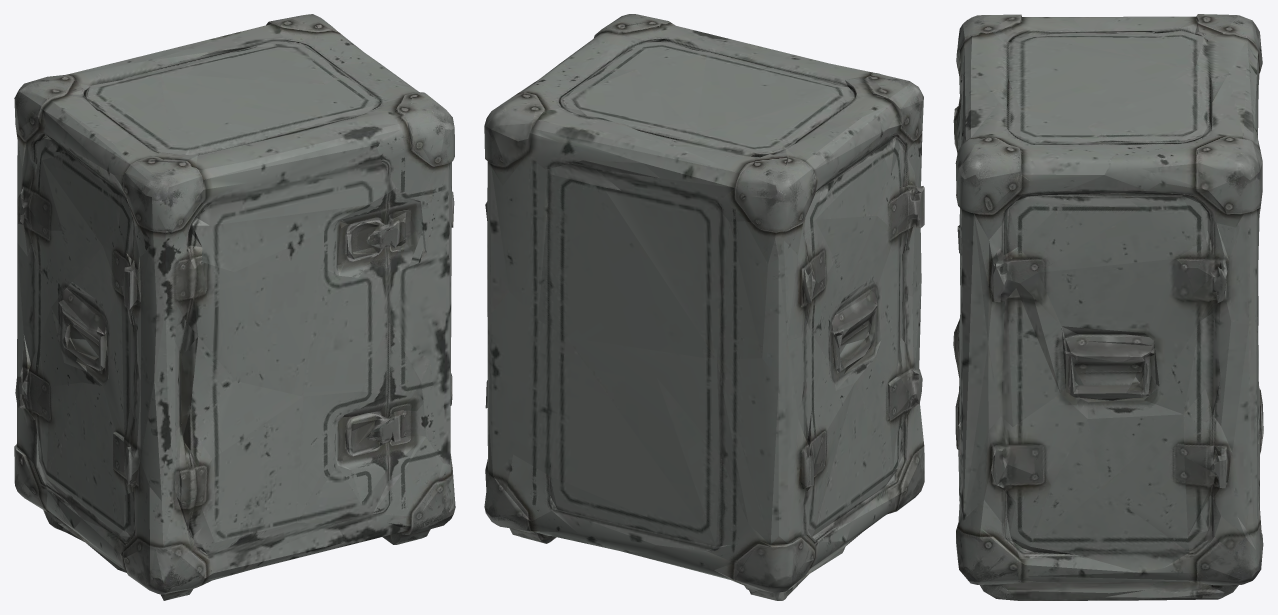
The model's file is locker.glb.
The picture shows the model from 3 angles, left to right: view 1: azimuth 30°, elevation 25°; view 2: azimuth 150°, elevation 25°; view 3: azimuth 270°, elevation 25°; orthographic projection. The views are drawn at different scales.
Visible parts, largest first — view 1: output_unwrapped; view 2: output_unwrapped; view 3: output_unwrapped.
Part boxes in pixels (x1,y1,x2,y2): output_unwrapped: [14, 14, 455, 600]; output_unwrapped: [484, 14, 924, 600]; output_unwrapped: [953, 14, 1263, 600].
Size of the model in its own units: 0.973 by 1.25 by 0.7777.
Materials: 1 (1 with a texture image).
